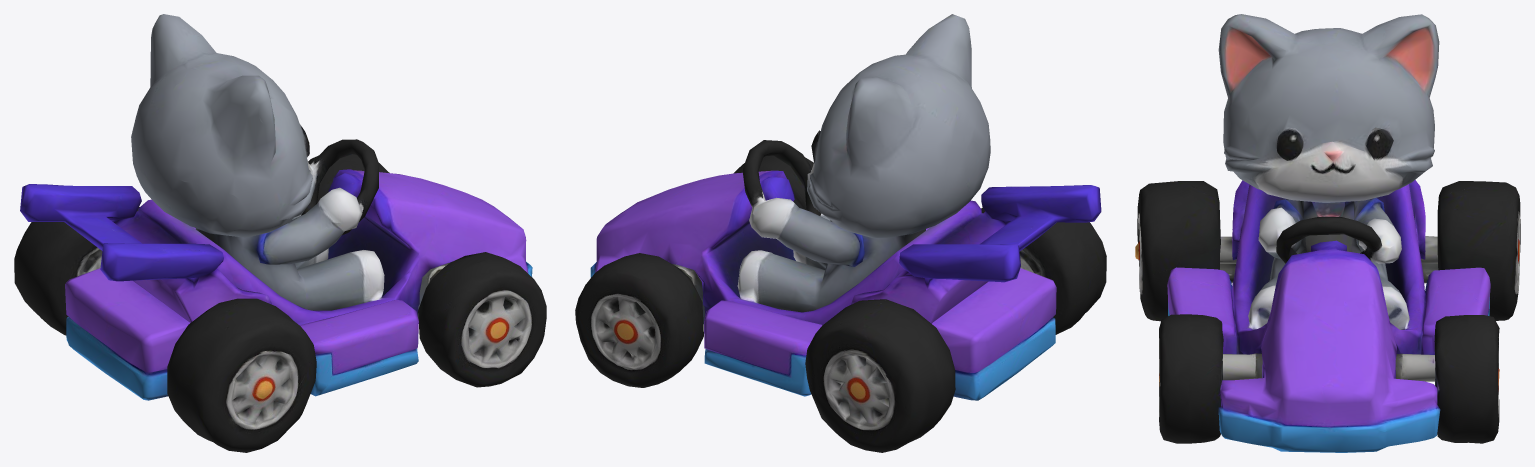
Rendered from cat.glb.
3 views of the same model, side by side, from view 1: azimuth 30°, elevation 25°; view 2: azimuth 150°, elevation 25°; view 3: azimuth 270°, elevation 25° (orthographic).
Parts seen in each view (by area): view 1: tripo_node_d39379c3-a249-423b-a4df-6034d2395d57; view 2: tripo_node_d39379c3-a249-423b-a4df-6034d2395d57; view 3: tripo_node_d39379c3-a249-423b-a4df-6034d2395d57.
Part boxes in pixels (left/top/right/bottom): tripo_node_d39379c3-a249-423b-a4df-6034d2395d57: left=14, top=14, right=546, bottom=452; tripo_node_d39379c3-a249-423b-a4df-6034d2395d57: left=575, top=14, right=1106, bottom=452; tripo_node_d39379c3-a249-423b-a4df-6034d2395d57: left=1135, top=14, right=1520, bottom=452.
Bounding box in the file's own units: 1 × 0.7062 × 0.7556.
1 material, 1 textured.
